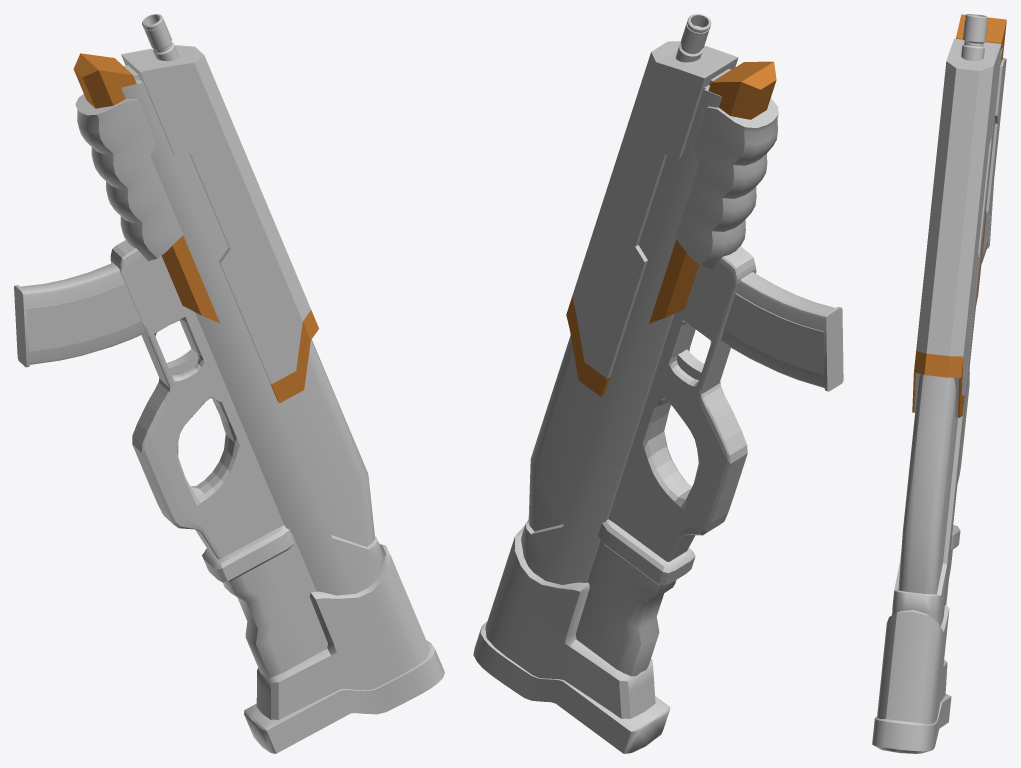
The picture shows the model from 3 angles, left to right: view 1: azimuth 30°, elevation 25°; view 2: azimuth 150°, elevation 25°; view 3: azimuth 270°, elevation 25°; orthographic projection. The views are drawn at different scales.
Visible parts, largest first — view 1: AR_4; view 2: AR_4; view 3: AR_4.
Part boxes in pixels (x1,y1,x2,y2): AR_4: (14, 14, 444, 753); AR_4: (473, 14, 843, 753); AR_4: (872, 14, 1006, 753).
Bounding box in the file's own units: 0.3303 × 0.608 × 0.1104.
